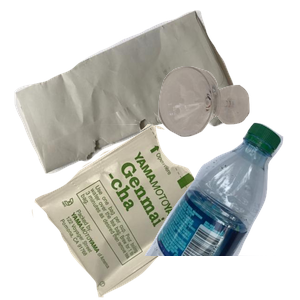glass: (156, 64, 300, 194)
paper: (12, 10, 240, 176)
plastic: (142, 120, 300, 300)
trash: (29, 124, 238, 300)
